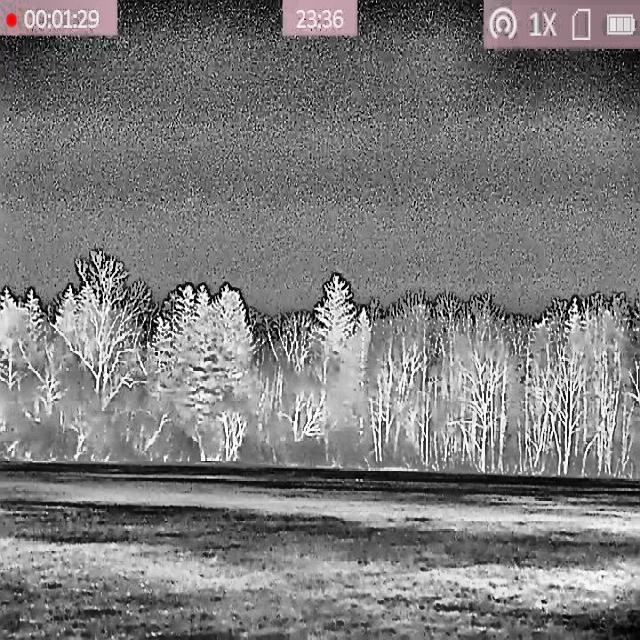drone: (177, 284, 182, 292)
